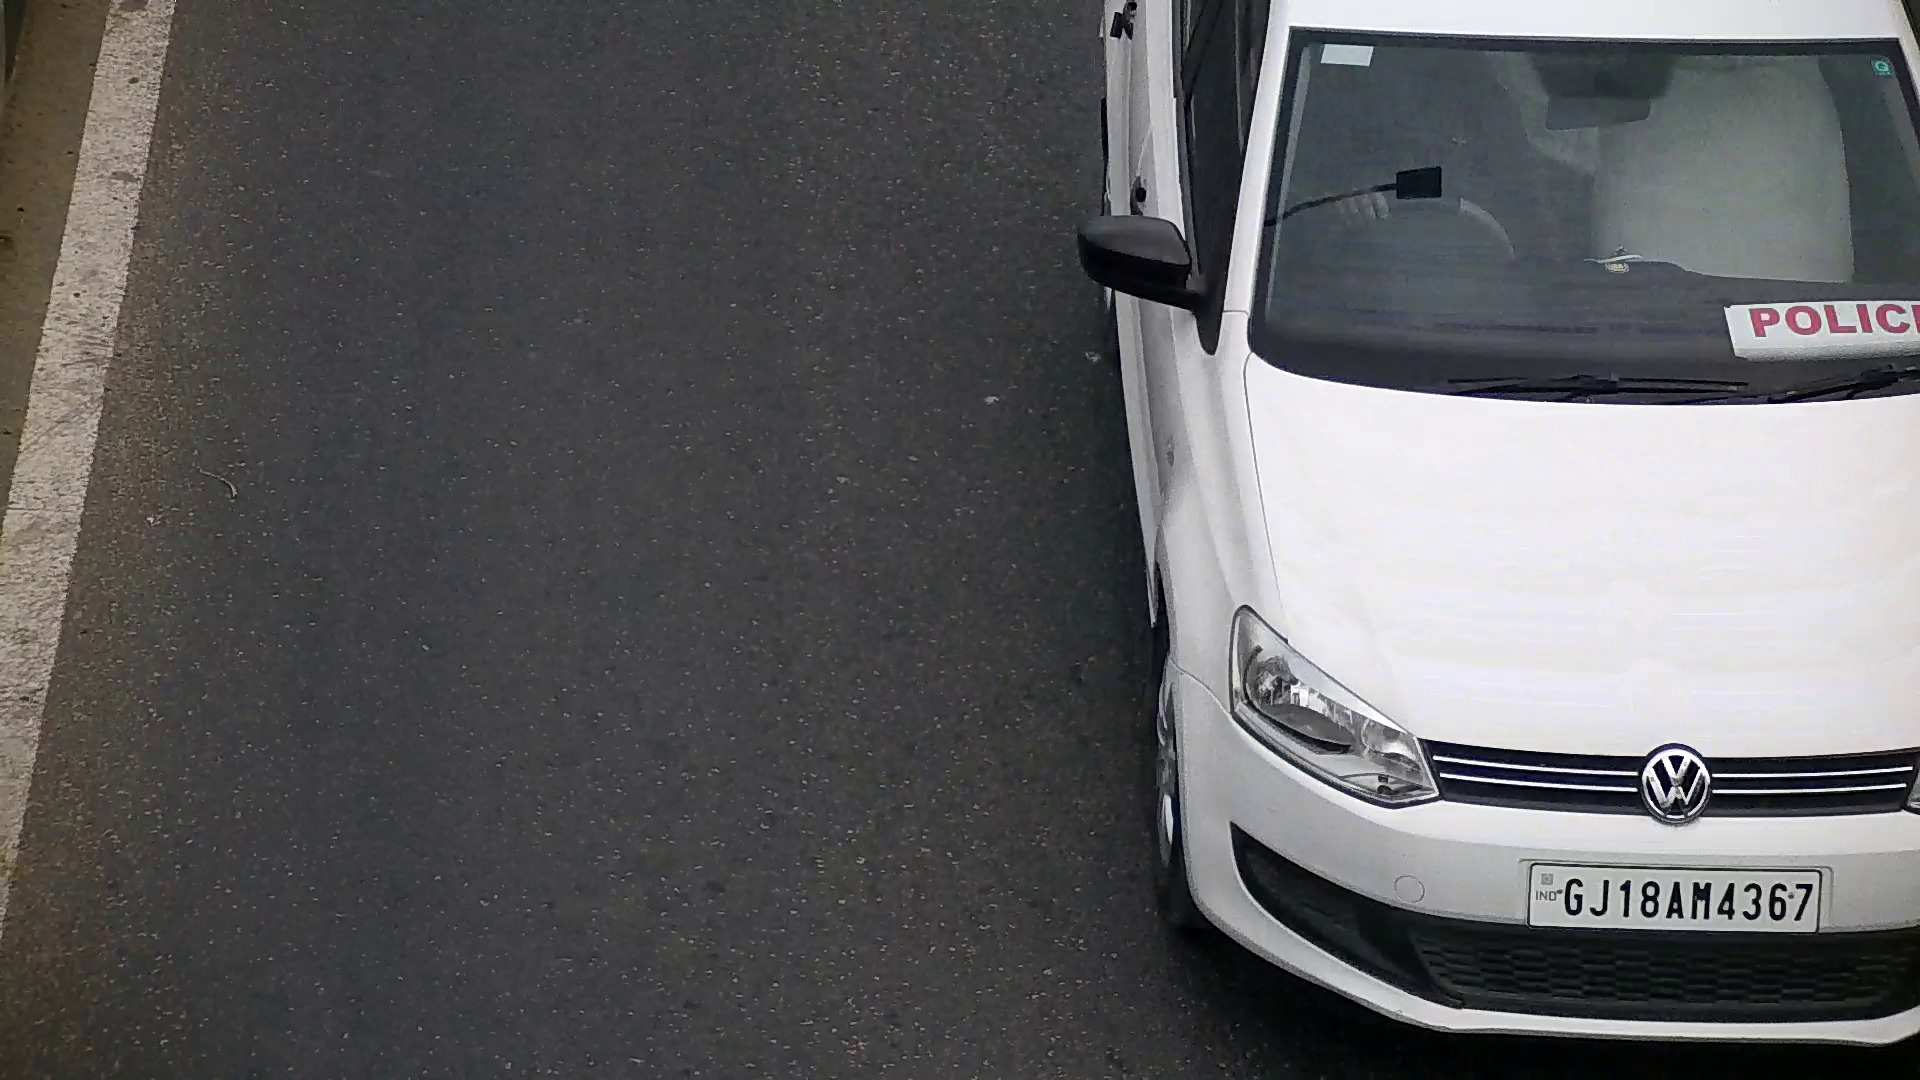numberplate: (1524, 864, 1827, 934)
